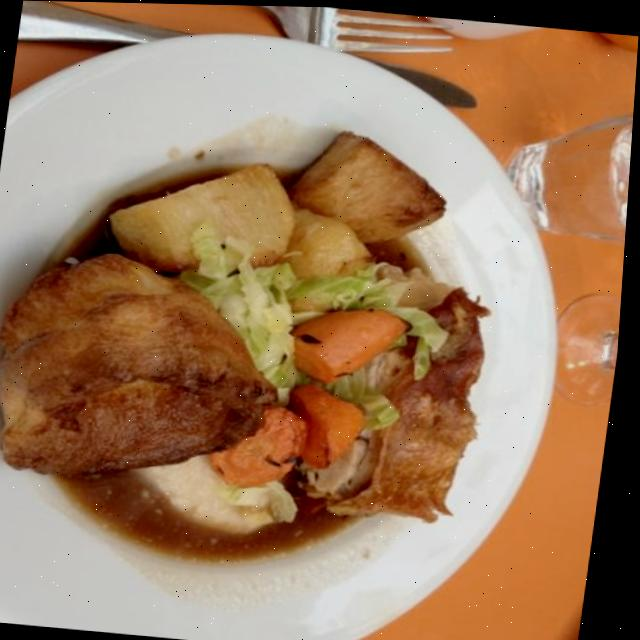牛肉菜式: (0, 73, 573, 640)
